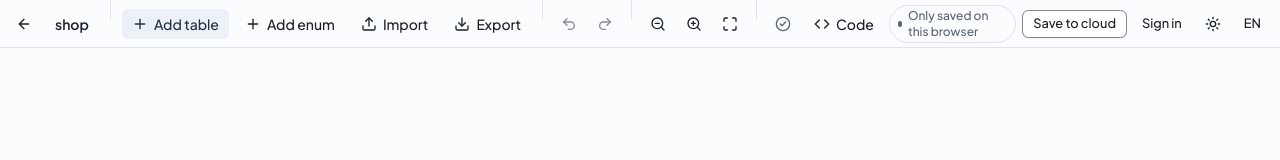
Test: EditorToolbar › enables redo after an undo
This screenshot has width=1280, height=160.
Click the button "Add table" at (175,24), box [121, 8, 230, 40]
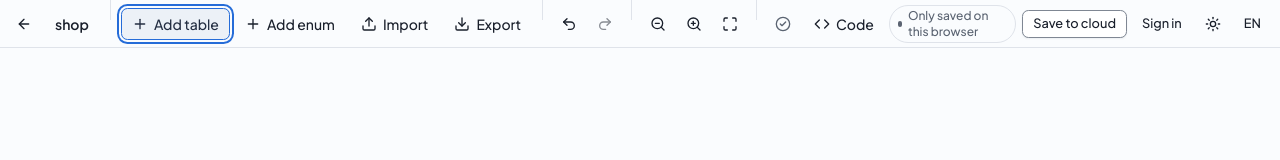
Click the button named "Undo" at (569,24), box [553, 8, 585, 40]
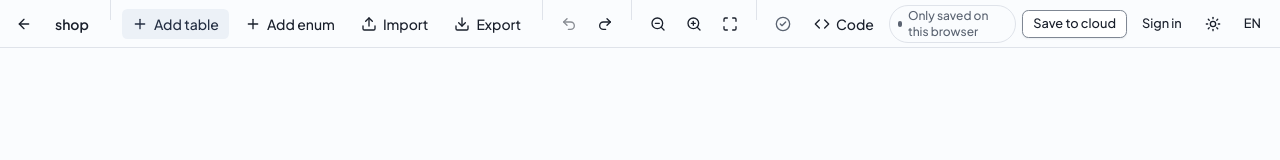
Result: the button named "Redo" is enabled at [589, 8, 621, 40]
